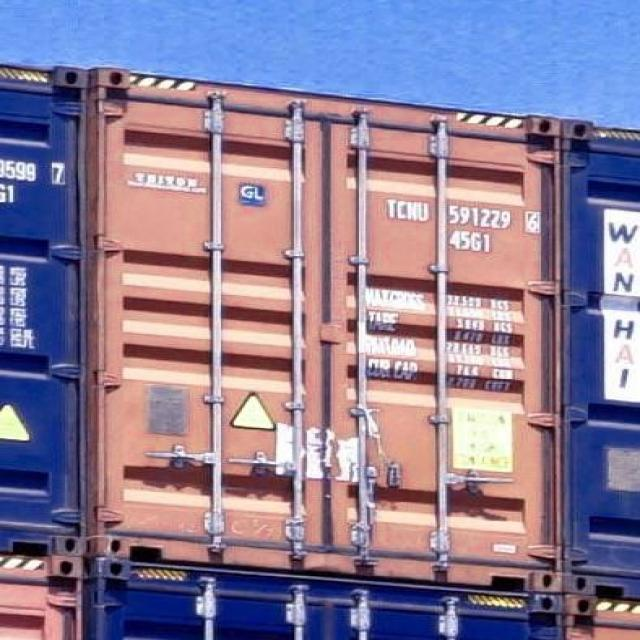ISO: (448, 230, 497, 254), (1, 183, 17, 204)
container_number: (388, 195, 544, 229), (2, 161, 68, 182)
